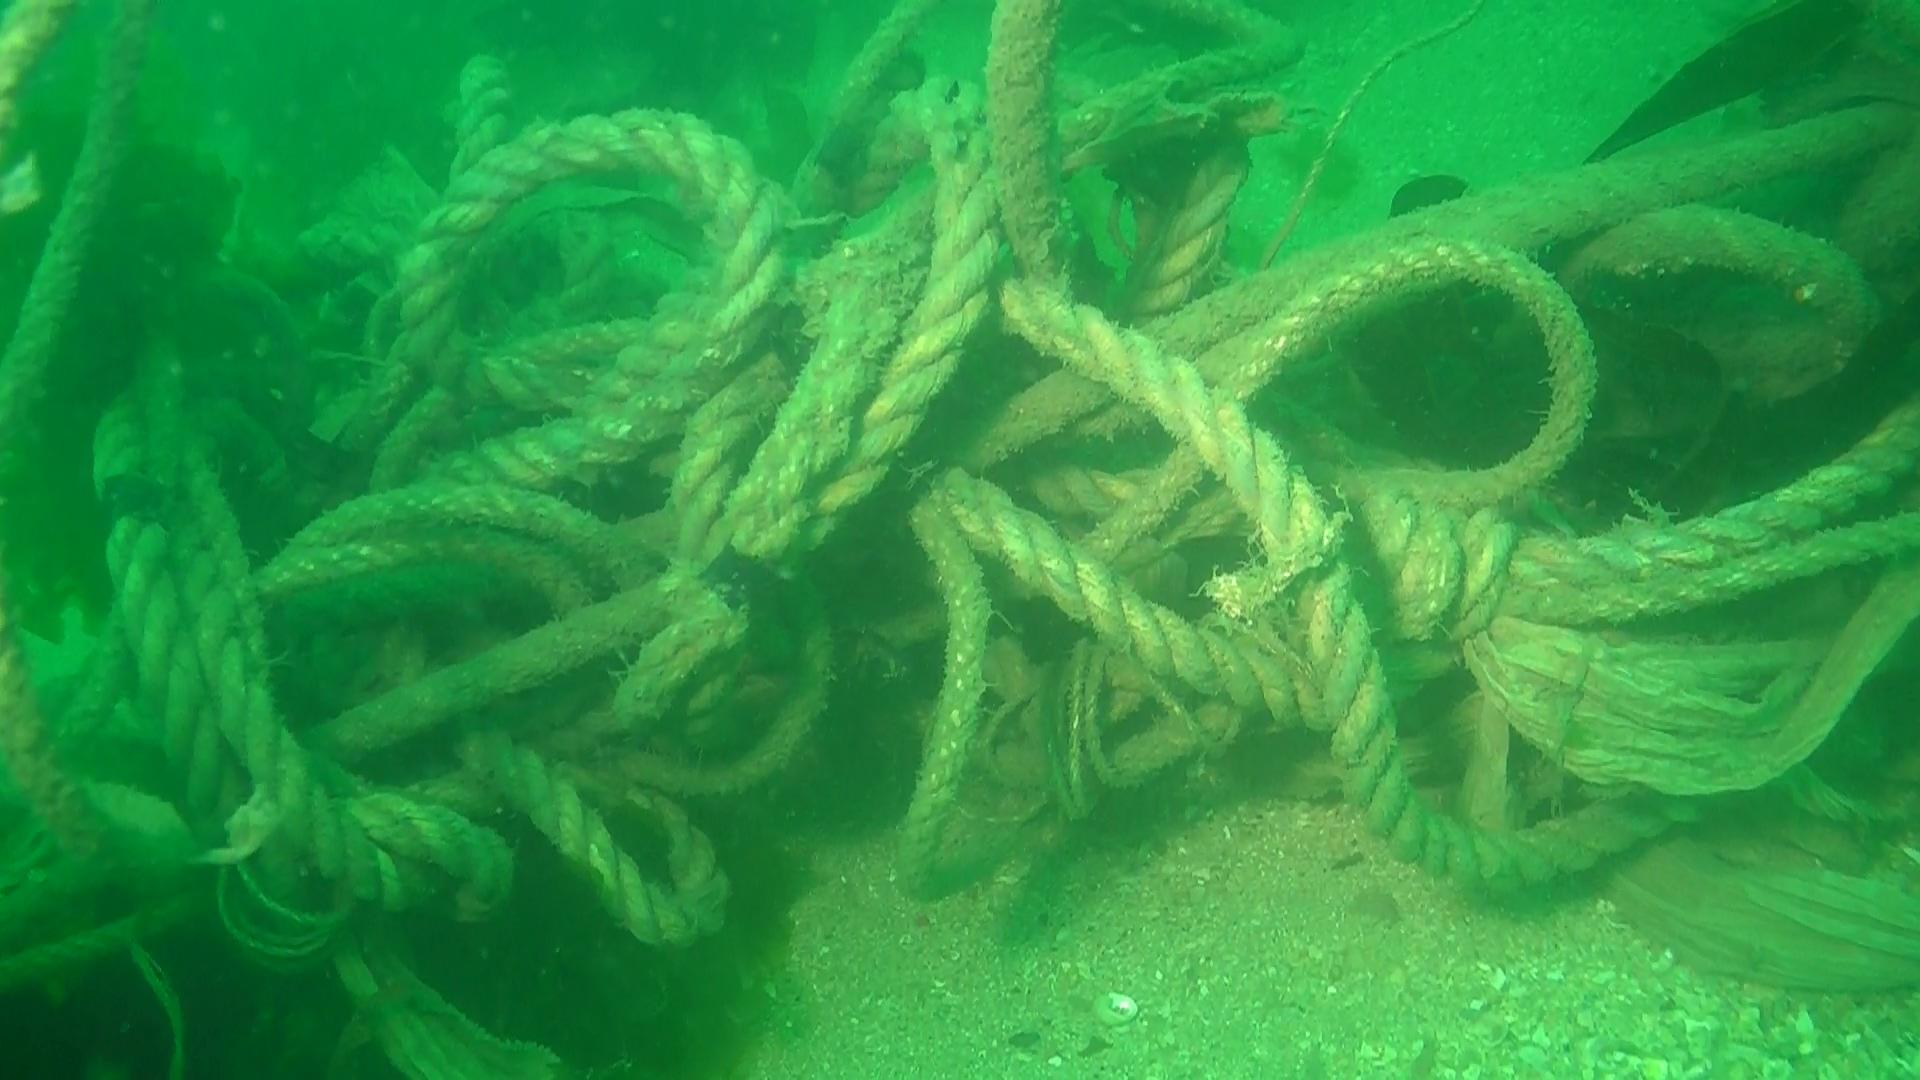bundle of ropes: (0, 0, 1920, 982)
